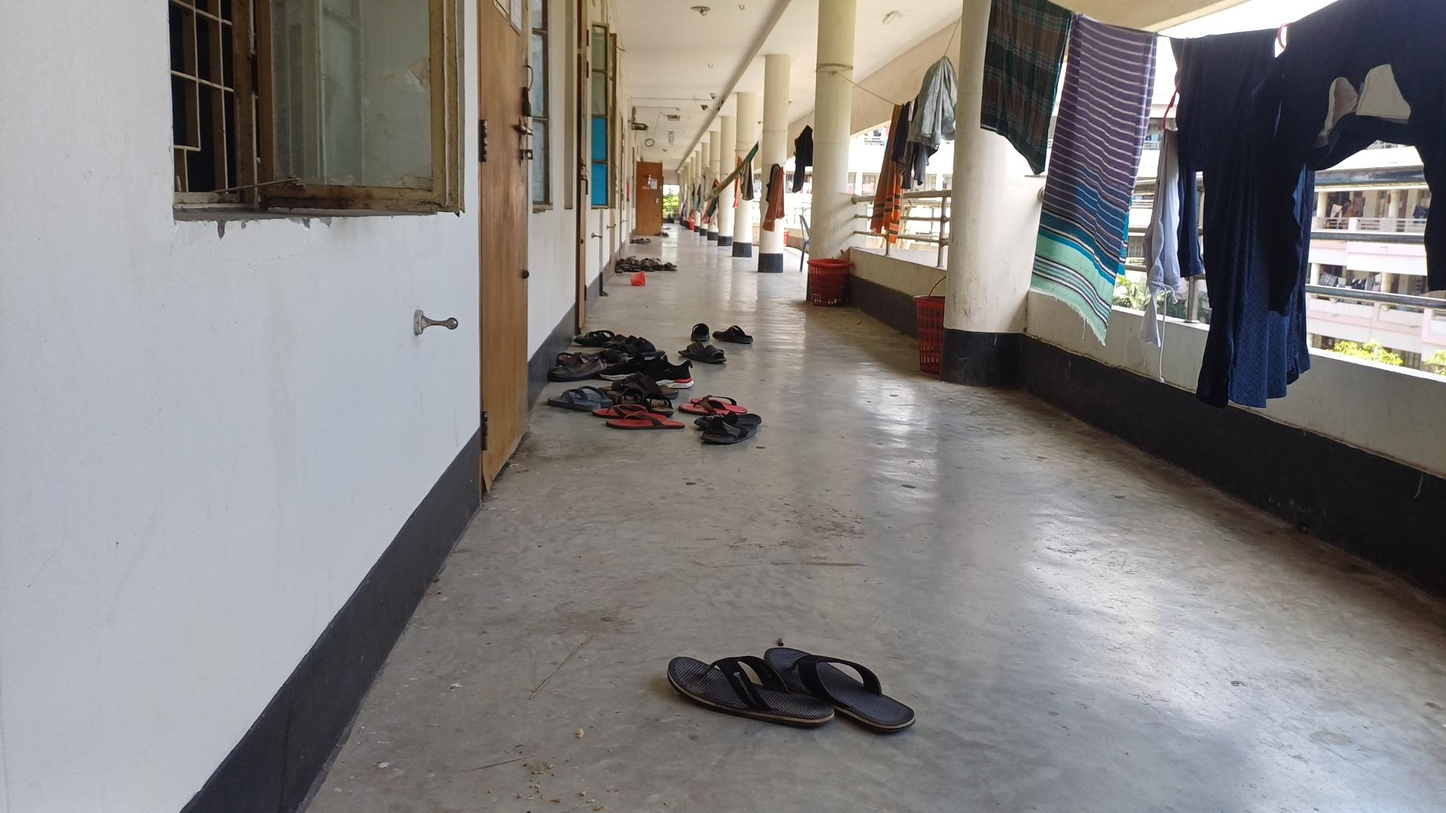Basket: (900, 284, 947, 375), (804, 257, 854, 310)
Door: (474, 6, 545, 477), (635, 155, 672, 238)
Footwear: (640, 626, 952, 763), (590, 405, 682, 438), (695, 412, 770, 451), (550, 380, 604, 411), (682, 337, 724, 371), (582, 323, 616, 348)
Mug: (623, 268, 648, 286)
Towel: (1028, 5, 1130, 343)
